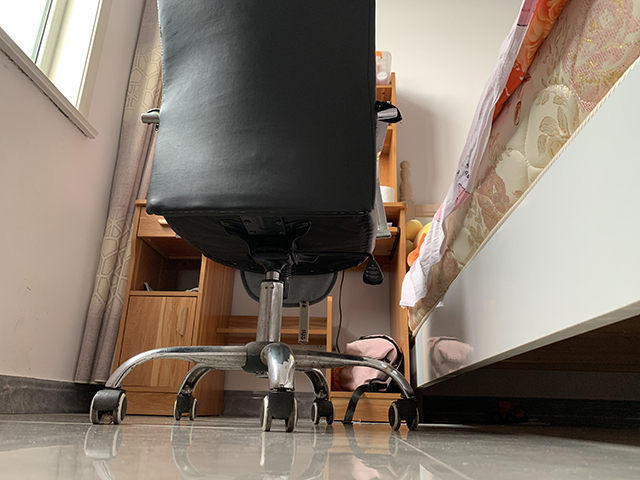bed: (394, 1, 640, 425)
stool: (85, 1, 420, 433)
table: (105, 70, 409, 423)
